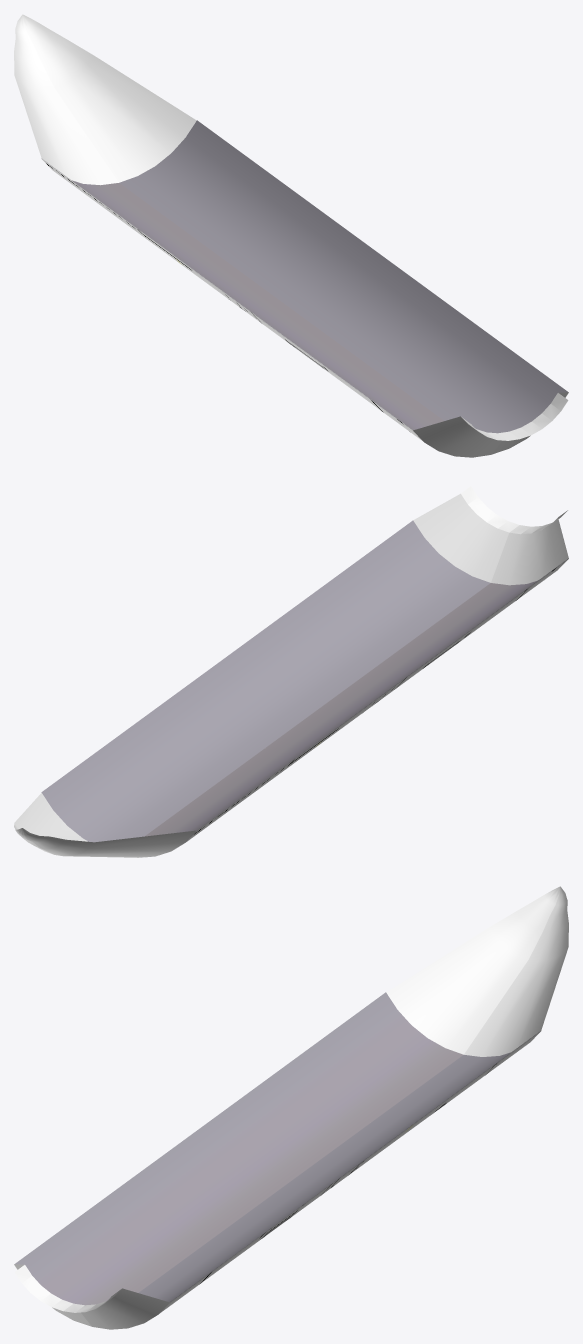
The model's file is fairing613c.obj.
The picture shows the model from 3 angles, top to bottom: view 1: azimuth 30°, elevation 25°; view 2: azimuth 150°, elevation 25°; view 3: azimuth 330°, elevation 25°; orthographic projection.
Visible parts, largest first — view 1: group0, group1; view 2: group0, group1; view 3: group0, group1.
Part boxes in pixels (x1,y1,x2,y2): group0: (14, 14, 568, 440); group1: (14, 59, 568, 457); group0: (14, 486, 568, 857); group1: (14, 510, 568, 857); group0: (14, 886, 568, 1312); group1: (14, 931, 568, 1329).
Bounding box in the file's own units: 4.17 × 2.5 × 22.97.
2 materials, 2 textured.
